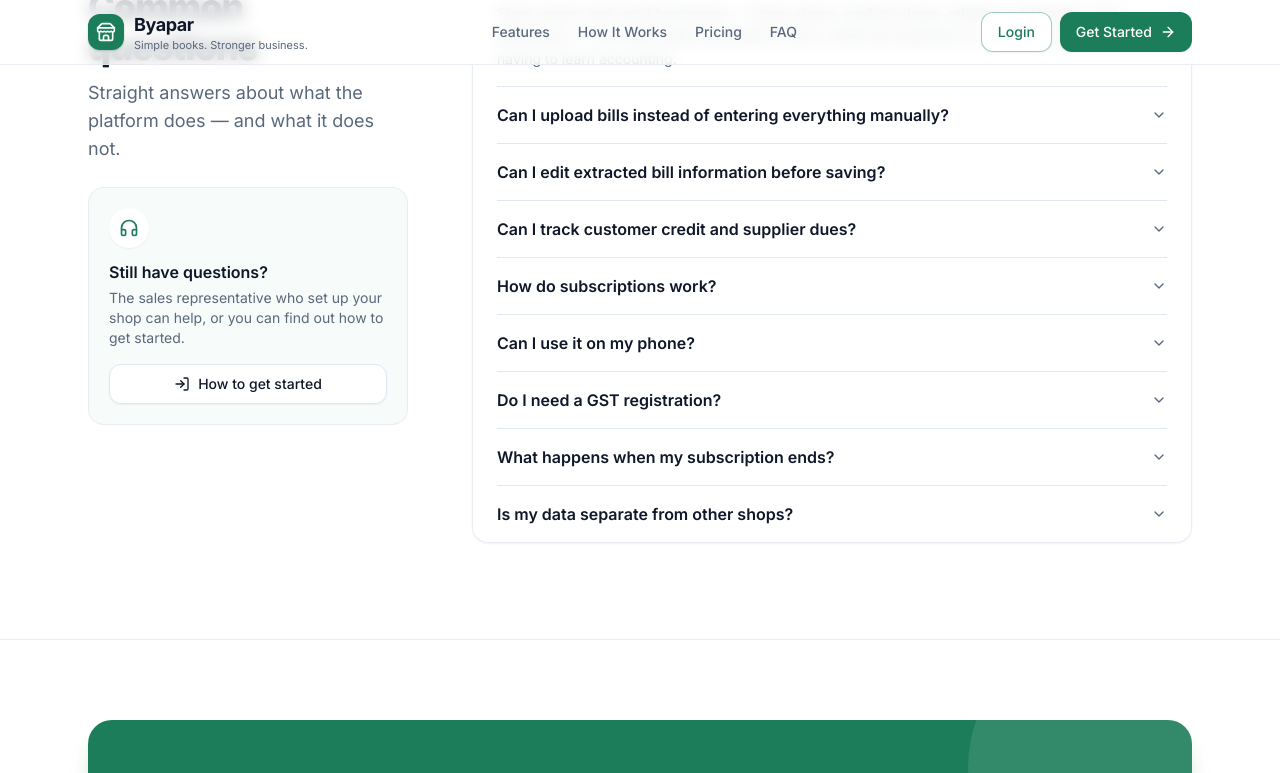
Test: the FAQ accordion › closes the previously open answer when another opens
This screenshot has width=1280, height=773.
(page scrolled)
Click the button "Do I need a GST registration?" at (609, 400), box [497,372,1167,428]
(page scrolled)
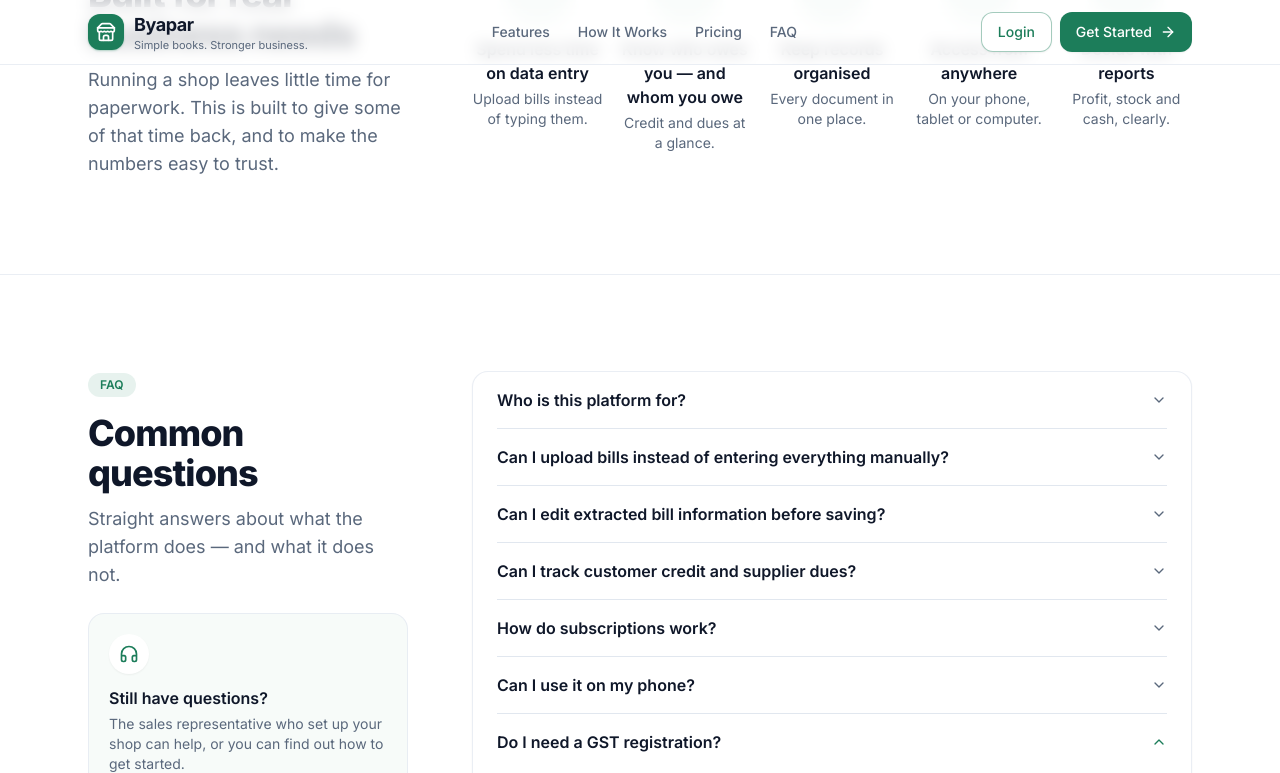
Result: the button "Who is this platform for?" is collapsed at [497,372,1167,428]
